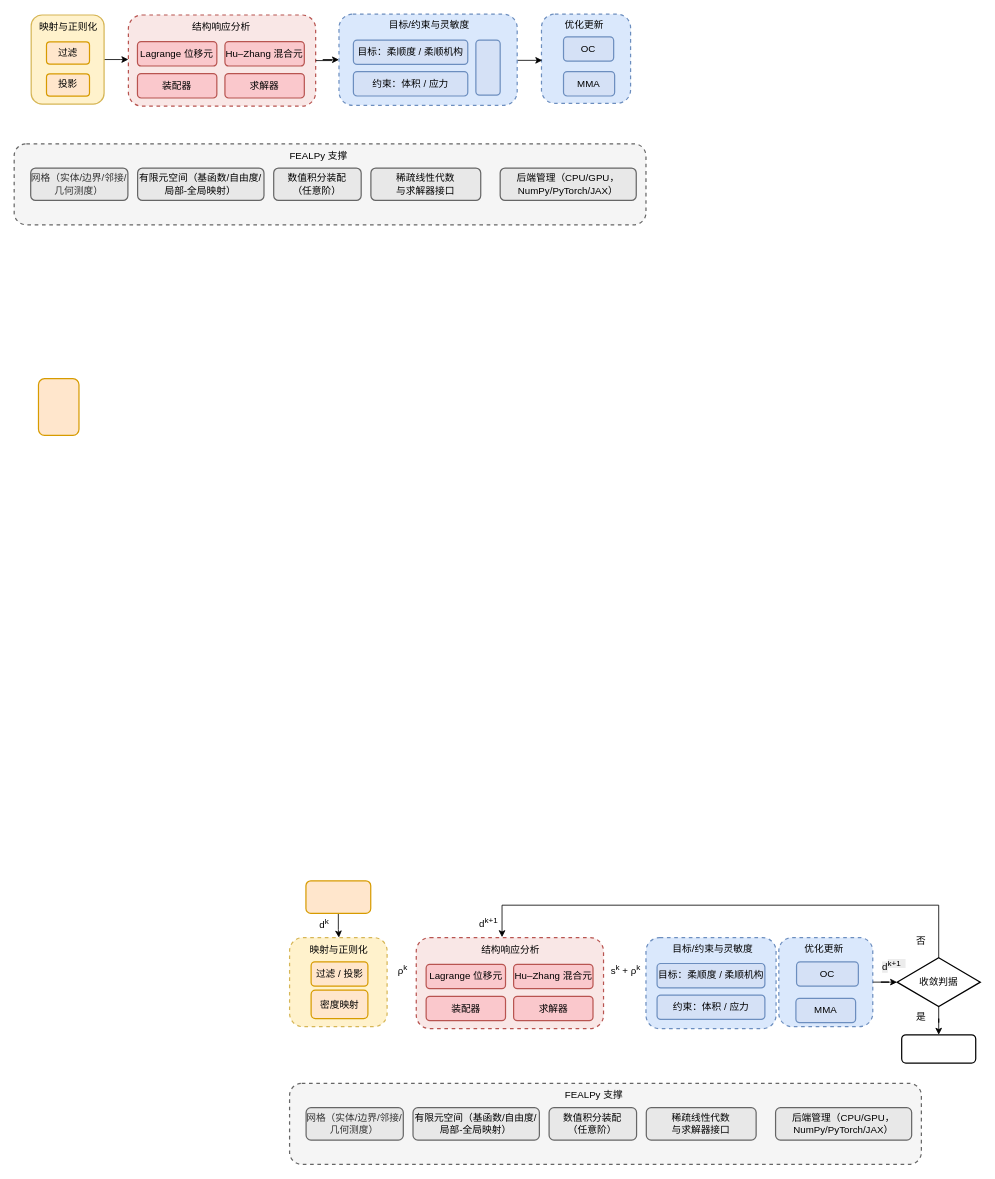
Image size: 995x1179. Some labels were removed from this diagram. The shapes that lost their labels are listed below. From the top down, each one's centre as x and y in pixels, then its label:
point 487,67: 灵敏度分析
point 58,407: 多分辨率映射
point 338,897: 优化模型建立
point 938,1048: 结果输出/终止
